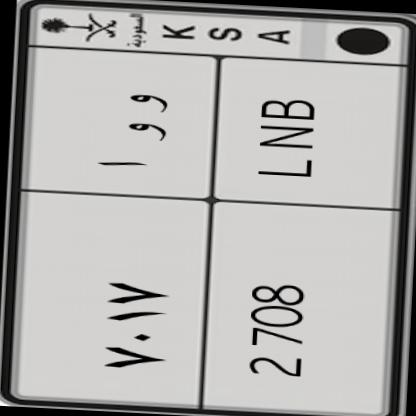english: (180, 48, 413, 416)
